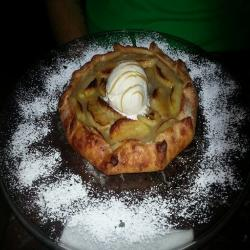apple_pie: (58, 42, 203, 181), (97, 59, 160, 120)
